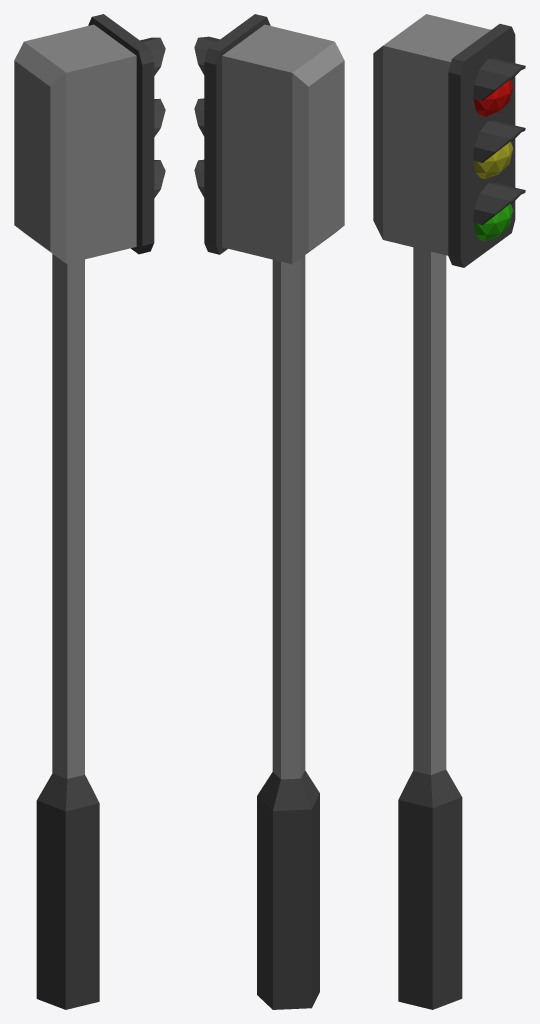
File: TrafficLight.glb
3 views of the same model, side by side, from view 1: azimuth 30°, elevation 25°; view 2: azimuth 150°, elevation 25°; view 3: azimuth 330°, elevation 25° (orthographic).
Parts seen in each view (by area): view 1: TrafficLight; view 2: TrafficLight; view 3: TrafficLight.
Part boxes in pixels (box(x1,y1,x2,y2)): TrafficLight: box(14, 14, 165, 1009); TrafficLight: box(194, 14, 344, 1009); TrafficLight: box(373, 14, 525, 1009).
Size of the model in its own units: 0.123 by 0.8709 by 0.0896.
